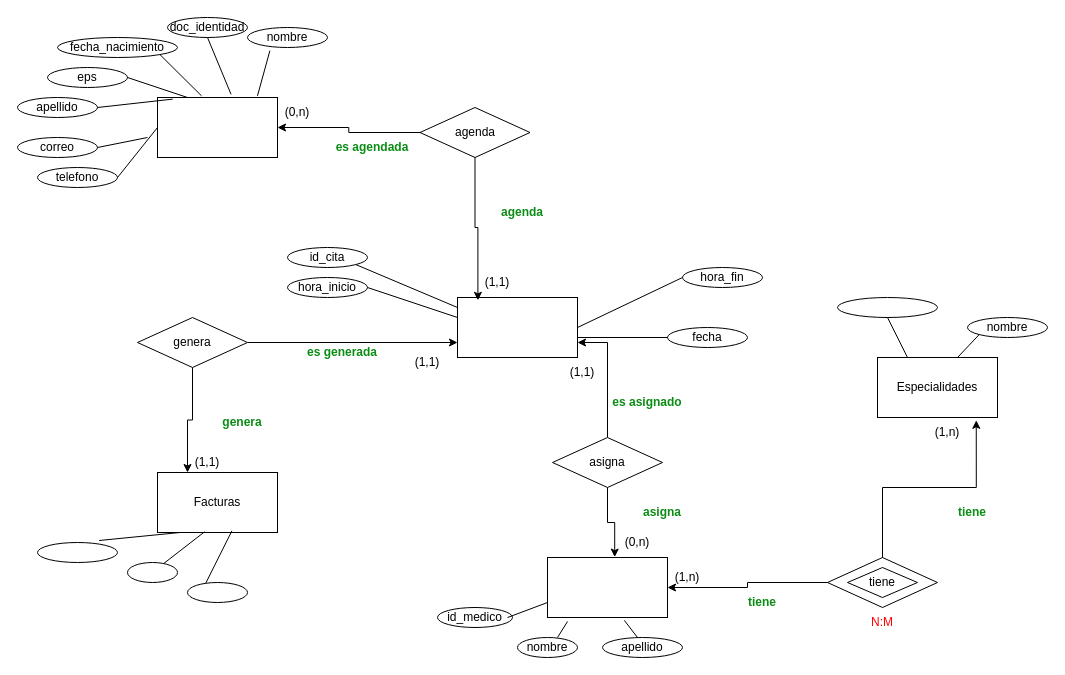
The diagram is 1065 pixels wide and 675 high, and some of its shapes have lost their labels. The centre of each missing label's shape, as x and y in pixels:
"Citas" belongs at point 517,327.
"estado" belongs at point 217,592.
"id_especialidad" belongs at point 887,307.
"id_factura" belongs at point 77,552.
"Medicos" belongs at point 607,587.
"Pacientes" belongs at point 217,127.
"valor" belongs at point 152,572.
